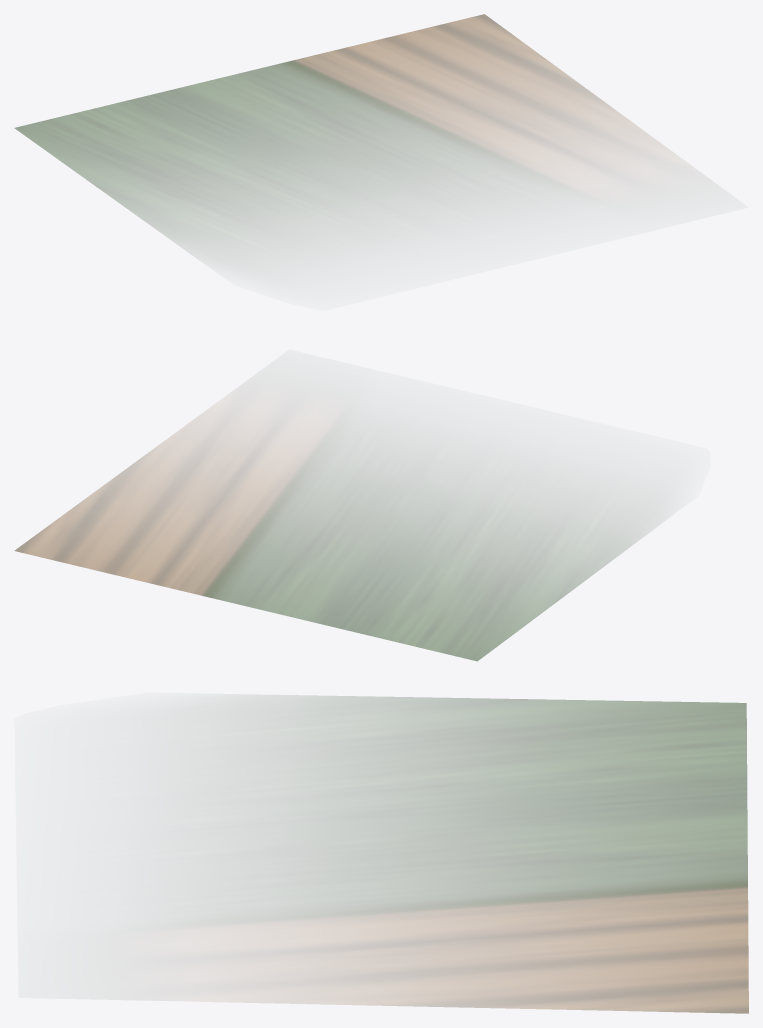
The model's file is Farmland.glb.
The picture shows the model from 3 angles, top to bottom: view 1: azimuth 30°, elevation 25°; view 2: azimuth 150°, elevation 25°; view 3: azimuth 270°, elevation 25°; orthographic projection. The views are drawn at different scales.
Parts seen in each view (by area): view 1: Irrigation.009; view 2: Irrigation.009; view 3: Irrigation.009.
Part boxes in pixels (<box>): Irrigation.009: <box>14,14,671,249</box>; Irrigation.009: <box>14,408,641,661</box>; Irrigation.009: <box>210,696,748,1013</box>.
Bounding box in the file's own units: 2.99 × 0.2664 × 2.99.
Materials: 1 (1 with a texture image).
